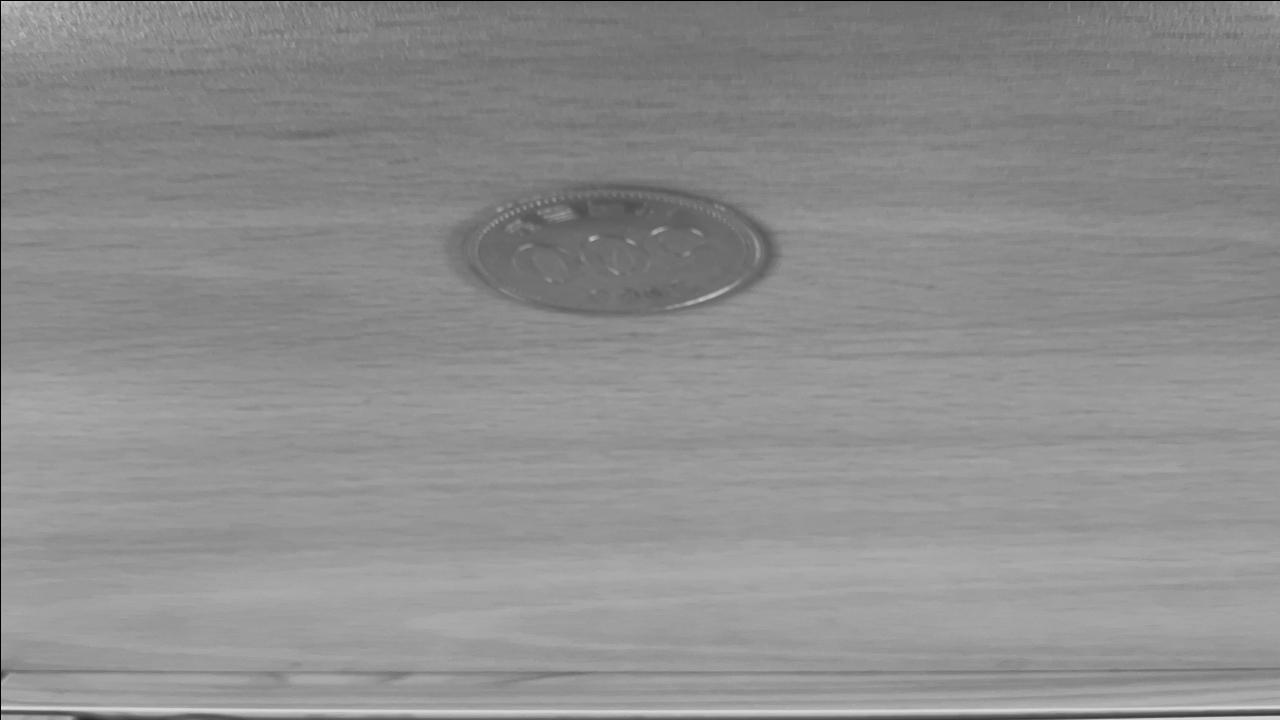coin: (458, 187, 770, 315)
